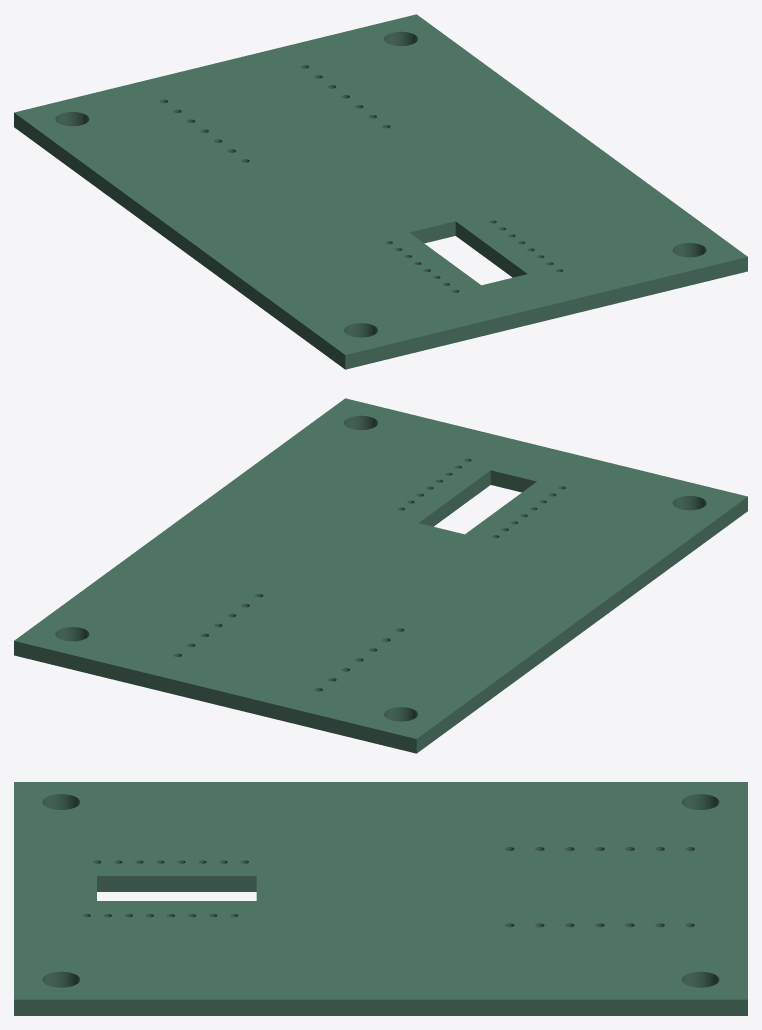
Rendered from yufeng-pcb-4-3d-model.glb.
3 views of the same model, one above another, from view 1: azimuth 30°, elevation 25°; view 2: azimuth 150°, elevation 25°; view 3: azimuth 270°, elevation 25° (orthographic). The views are drawn at different scales.
Visible parts, largest first — view 1: =>[0:1:1:2]; view 2: =>[0:1:1:2]; view 3: =>[0:1:1:2].
Boxes of the visible parts, box(x1,y1,x2,y2) form: =>[0:1:1:2]: box(14, 14, 747, 369); =>[0:1:1:2]: box(14, 398, 747, 753); =>[0:1:1:2]: box(14, 782, 747, 1015).
Size of the model in its own units: 0.0435 by 0.00151 by 0.062.
